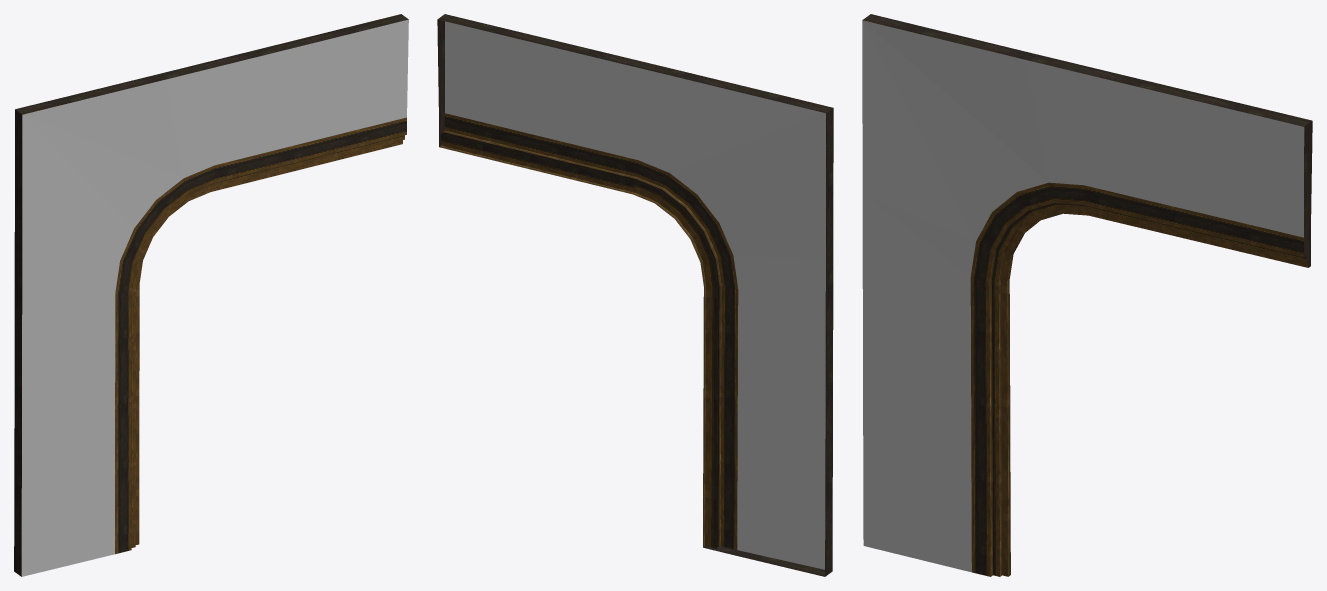
File: juqing_fuben_292_dimian_01.obj
3 views of the same model, side by side, from view 1: azimuth 30°, elevation 25°; view 2: azimuth 150°, elevation 25°; view 3: azimuth 330°, elevation 25° (orthographic). The views are drawn at different scales.
Parts seen in each view (by area): view 1: DrawCall_0057; view 2: DrawCall_0057; view 3: DrawCall_0057.
Part boxes in pixels (x1,y1,x2,y2): DrawCall_0057: (14,14,408,576); DrawCall_0057: (437,14,833,576); DrawCall_0057: (862,14,1312,576).
Size of the model in its own units: 1280 by 1464 by 48.84.
